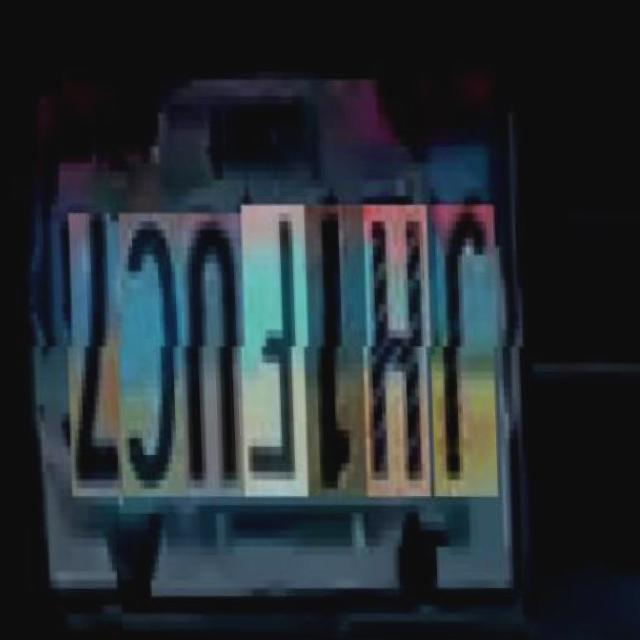1: (296, 202, 367, 496)
7: (60, 218, 121, 503)
c: (110, 210, 184, 495)
f: (233, 202, 307, 495)
h: (356, 202, 430, 496)
j: (422, 202, 497, 496)
u: (173, 210, 244, 495)
